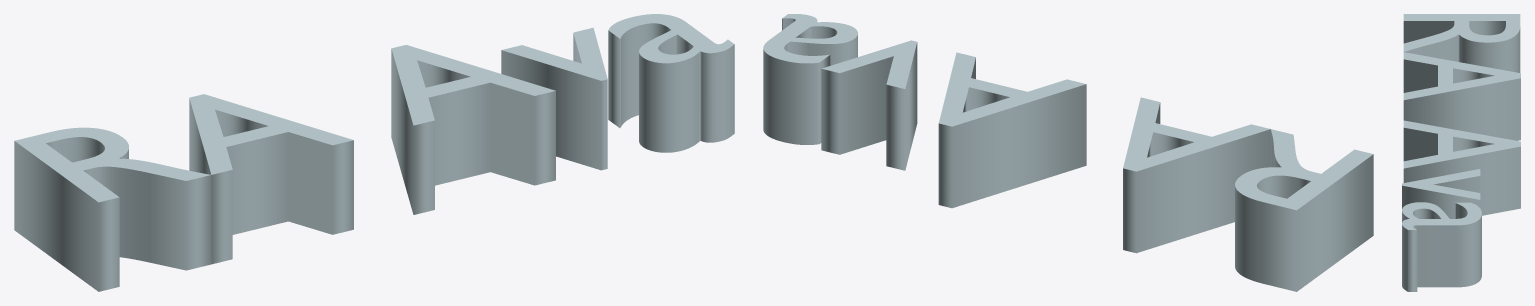
File: RA Ava.gltf
3 renders of one model, left to right at view 1: azimuth 30°, elevation 25°; view 2: azimuth 150°, elevation 25°; view 3: azimuth 270°, elevation 25°, orthographic. The views are drawn at different scales.
Parts seen in each view (by area): view 1: Text; view 2: Text; view 3: Text.
Boxes of the visible parts, box(x1,y1,x2,y2) form: Text: box(14, 14, 734, 291); Text: box(763, 14, 1373, 291); Text: box(1402, 14, 1520, 291).
Bounding box in the file's own units: 2.99 × 0.4 × 0.695.
